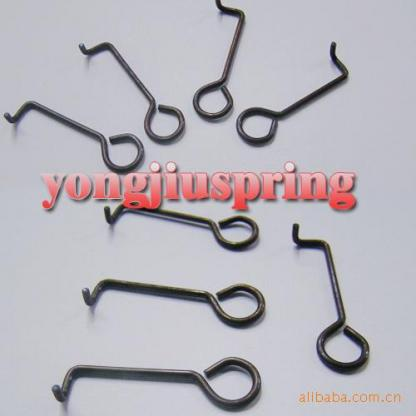FOD: (2, 97, 144, 172)
